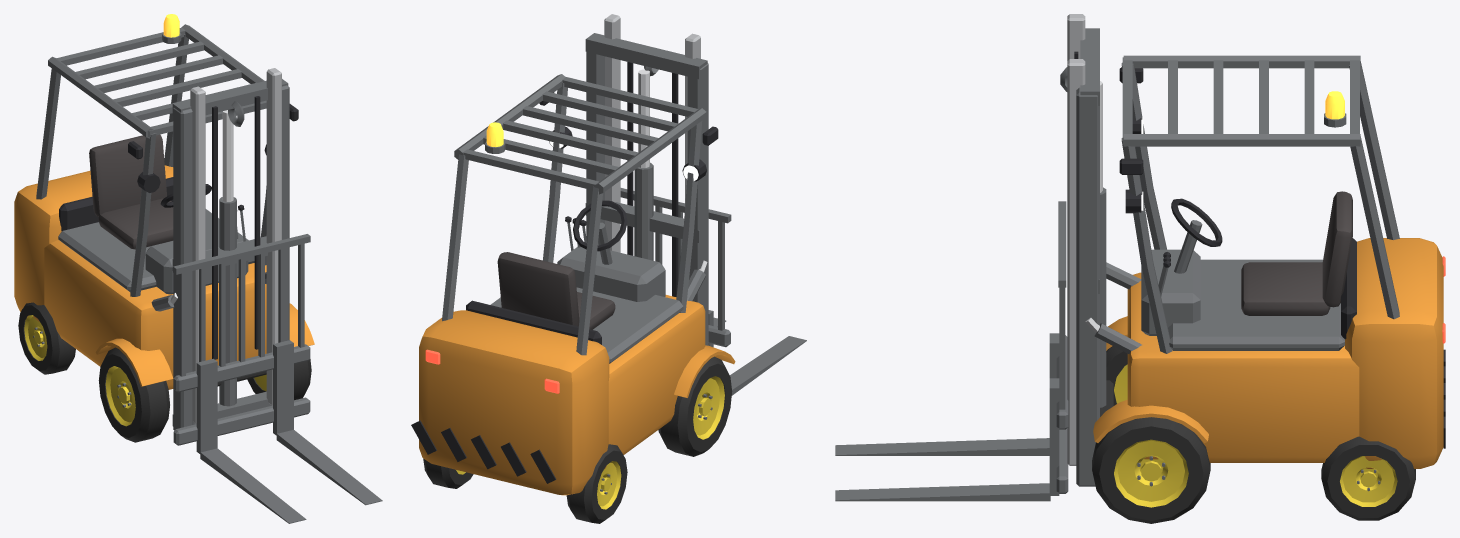
Rendered from forklift.glb.
3 views of the same model, side by side, from view 1: azimuth 30°, elevation 25°; view 2: azimuth 150°, elevation 25°; view 3: azimuth 270°, elevation 25° (orthographic). The views are drawn at different scales.
Visible parts, largest first — view 1: forklift_body; view 2: forklift_body; view 3: forklift_body.
Boxes of the visible parts, x1,y1,x2,y2 form: forklift_body: [14, 14, 382, 523]; forklift_body: [411, 14, 806, 523]; forklift_body: [835, 14, 1445, 523].
Size of what is drawn, in the model's own units: 1.22 by 2.45 by 3.09.
